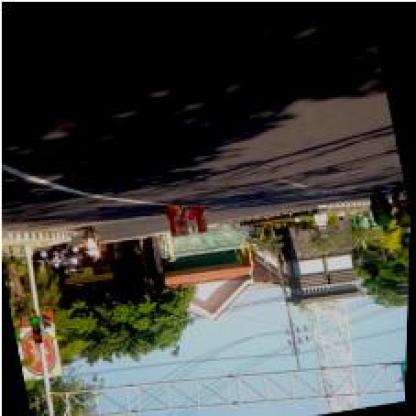green: (28, 314, 45, 342), (402, 354, 408, 390)
